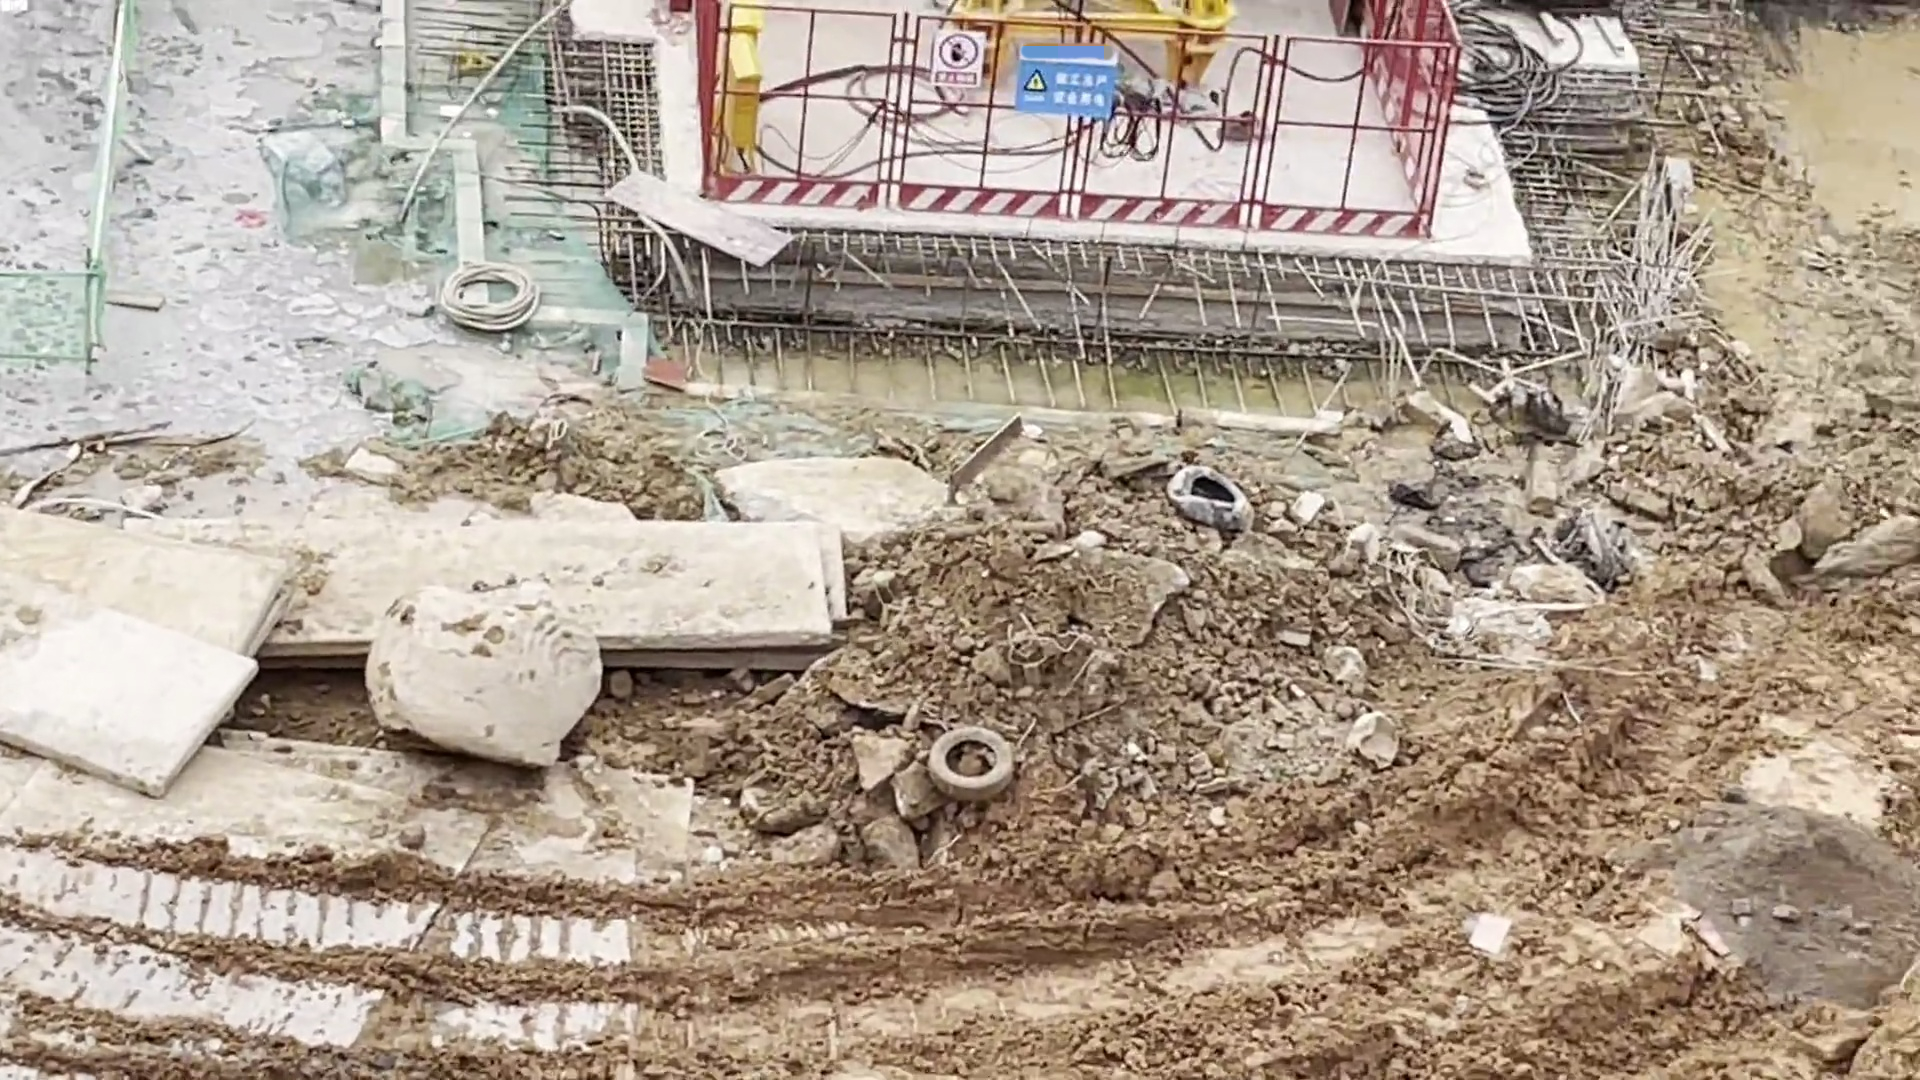ebox: (719, 1, 766, 173)
fence: (728, 7, 1444, 229), (694, 1, 727, 198)
slogan: (1017, 46, 1113, 117), (927, 29, 988, 88)
